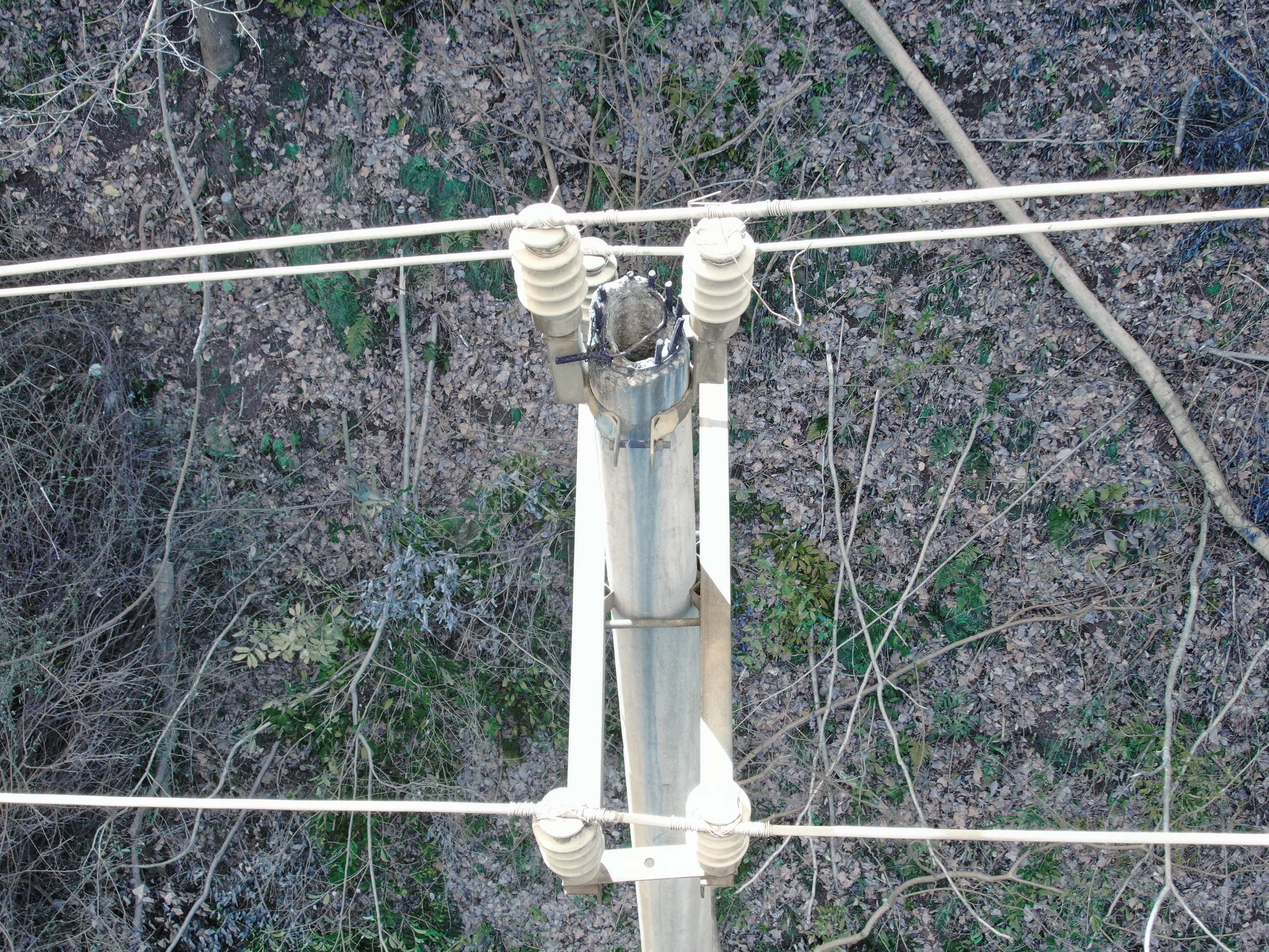severe_soiling_no_discharge_whole: (530, 779, 607, 886), (575, 233, 619, 336)
